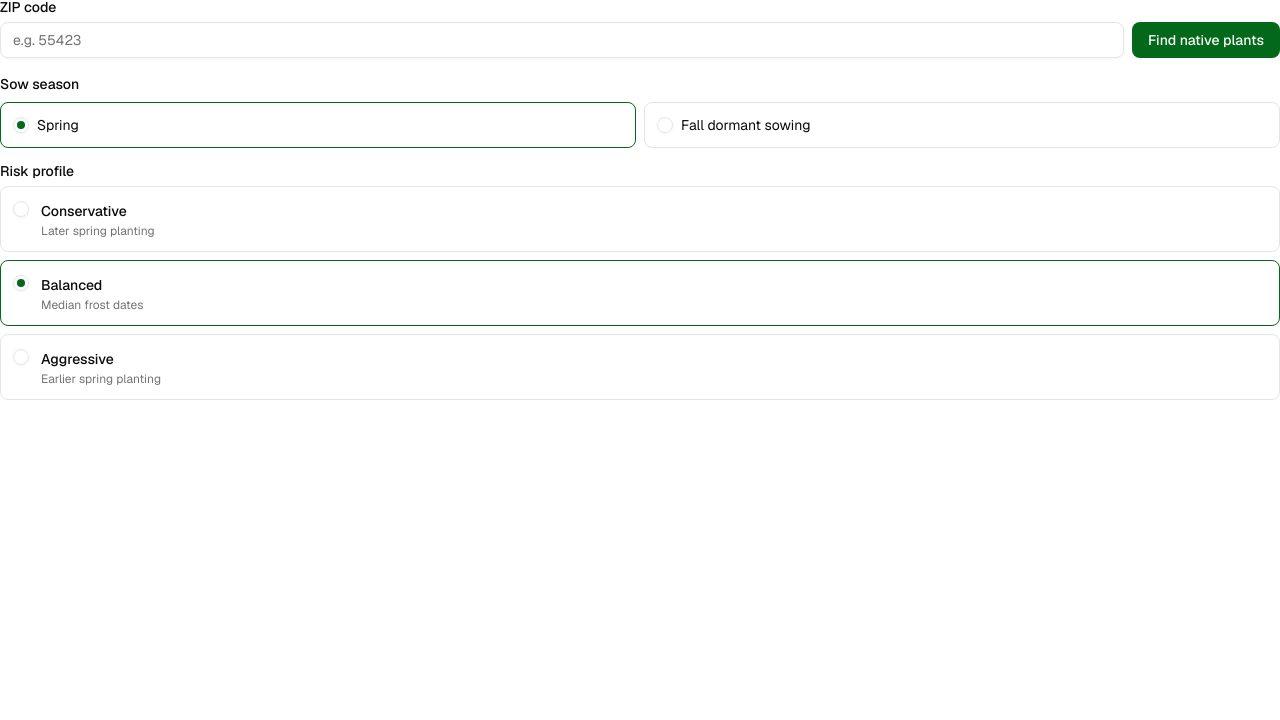
it: NativesLookup range evidence › shows both sides of a negative whole-ZCTA and native county disagreement without recommending the plant
Type "55423" into the field labelled "ZIP code".
click(562, 40); type("55423")  # box [0, 22, 1124, 58]
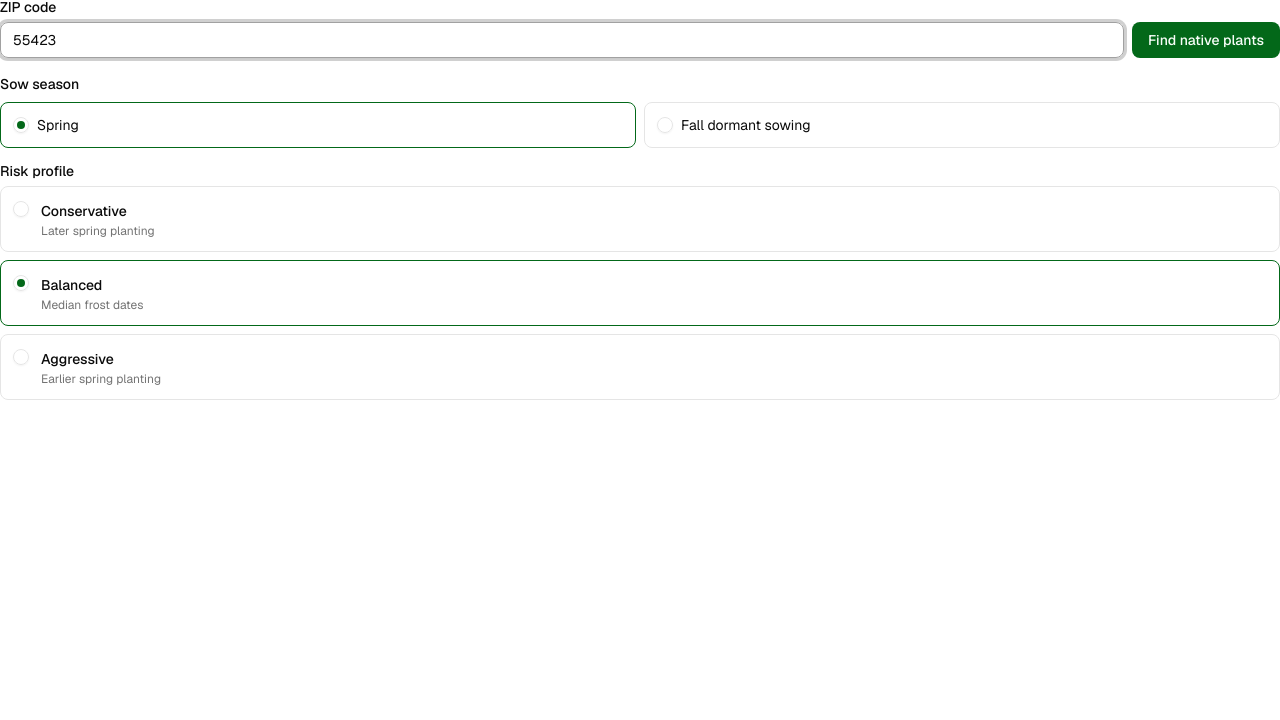
Click the button "Find native plants".
click(1206, 40)  # box [1132, 22, 1279, 58]
(page scrolled)
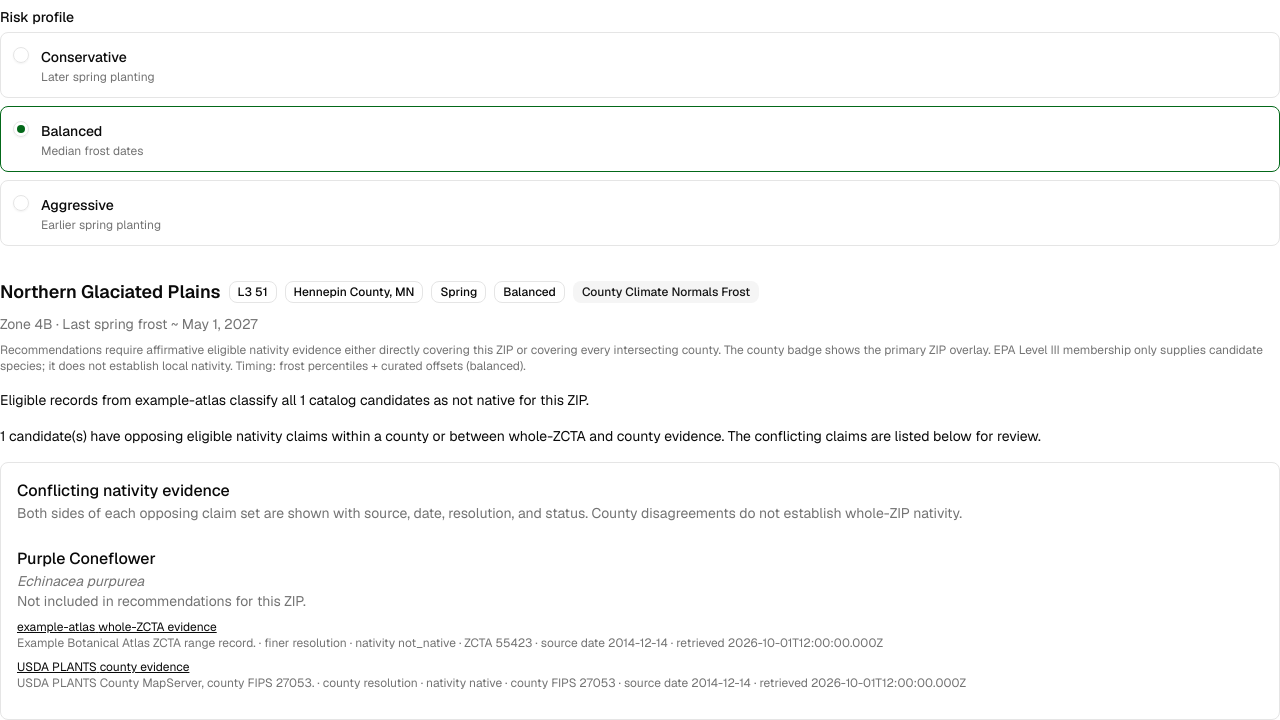
Expected: the text "1 candidate(s) have opposing eligible nativity claims within a county or between whole-ZCTA and county evidence" is shown, [0, 427, 1041, 445]
Expected: the text "Not included in recommendations for this ZIP." is shown, [17, 592, 306, 610]
Expected: the text "nativity not_native" is shown, [347, 635, 456, 651]
